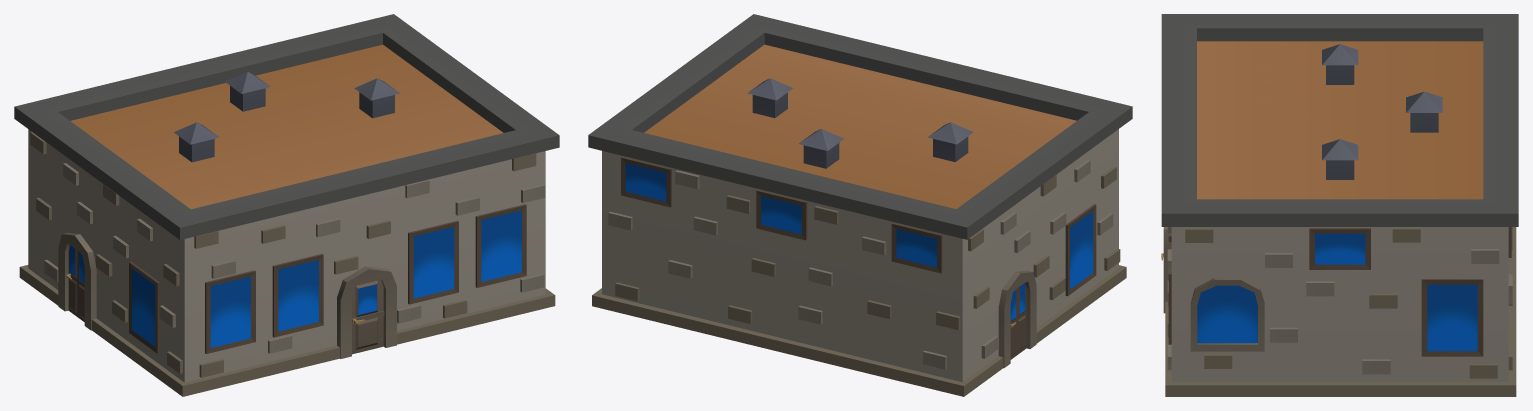
File: SM_House_20.FBX
3 renders of one model, left to right at view 1: azimuth 30°, elevation 25°; view 2: azimuth 150°, elevation 25°; view 3: azimuth 270°, elevation 25°, orthographic. The views are drawn at different scales.
Parts seen in each view (by area): view 1: SM_House_20; view 2: SM_House_20; view 3: SM_House_20.
Part boxes in pixels (left/top/right/bottom): SM_House_20: left=14, top=14, right=559, bottom=396; SM_House_20: left=588, top=14, right=1132, bottom=396; SM_House_20: left=1161, top=14, right=1518, bottom=396.
Size of what is drawn, in the model's own units: 1177 by 891 by 569.
